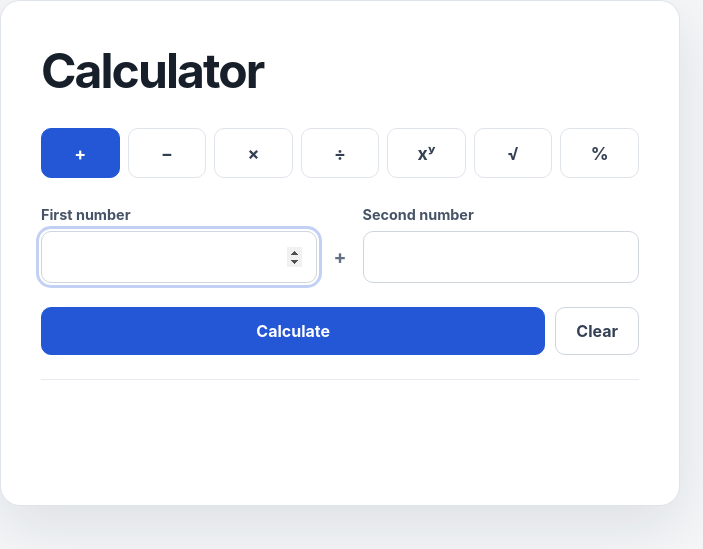
Scenario: Calculator › shows an API error
Click the button named "Divide".
click(340, 153)  # box [301,128,379,178]
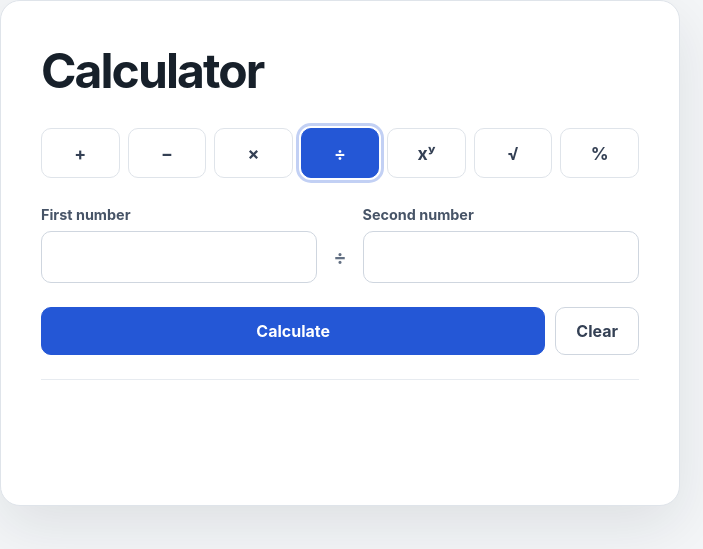
Type "7" into the number field labelled "First number".
click(179, 257); type("7")  # box [41,231,318,283]
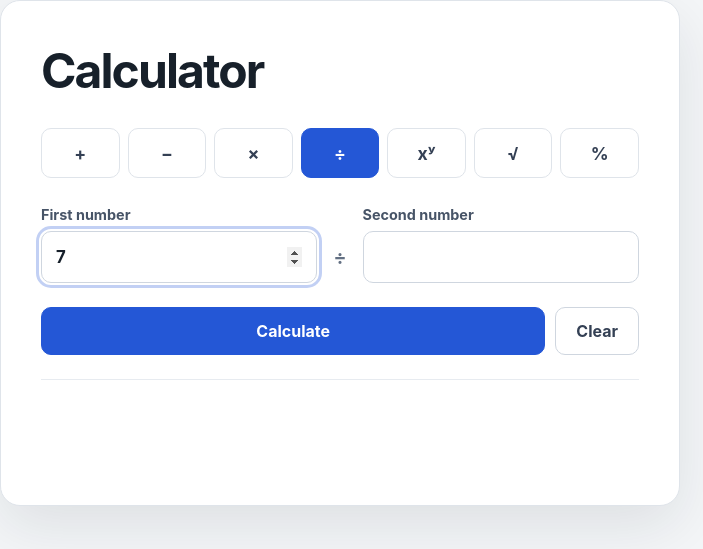
Type "0" into the number field labelled "Second number".
click(501, 257); type("0")  # box [362,231,639,283]
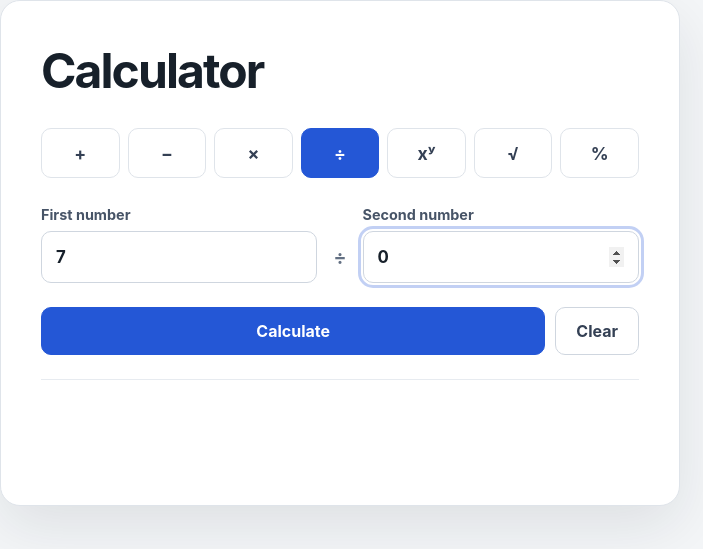
Click the button "Calculate".
click(293, 331)  # box [41,307,545,355]
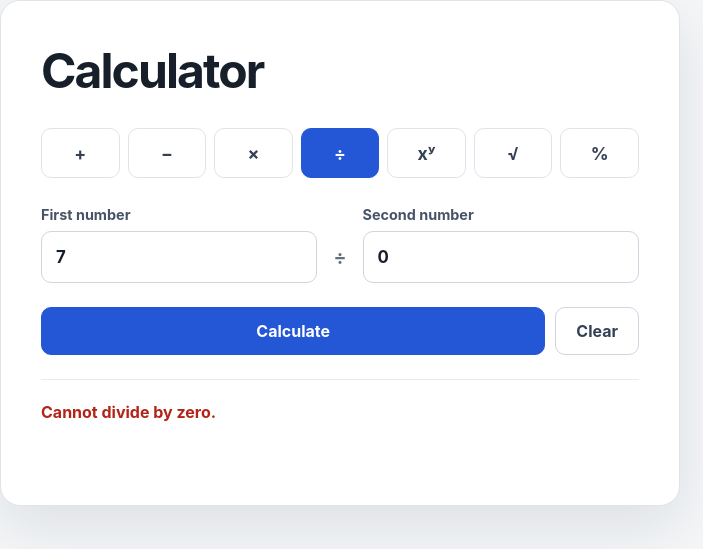
Now the message reads "Cannot divide by zero.", box [41,402,216,422]
